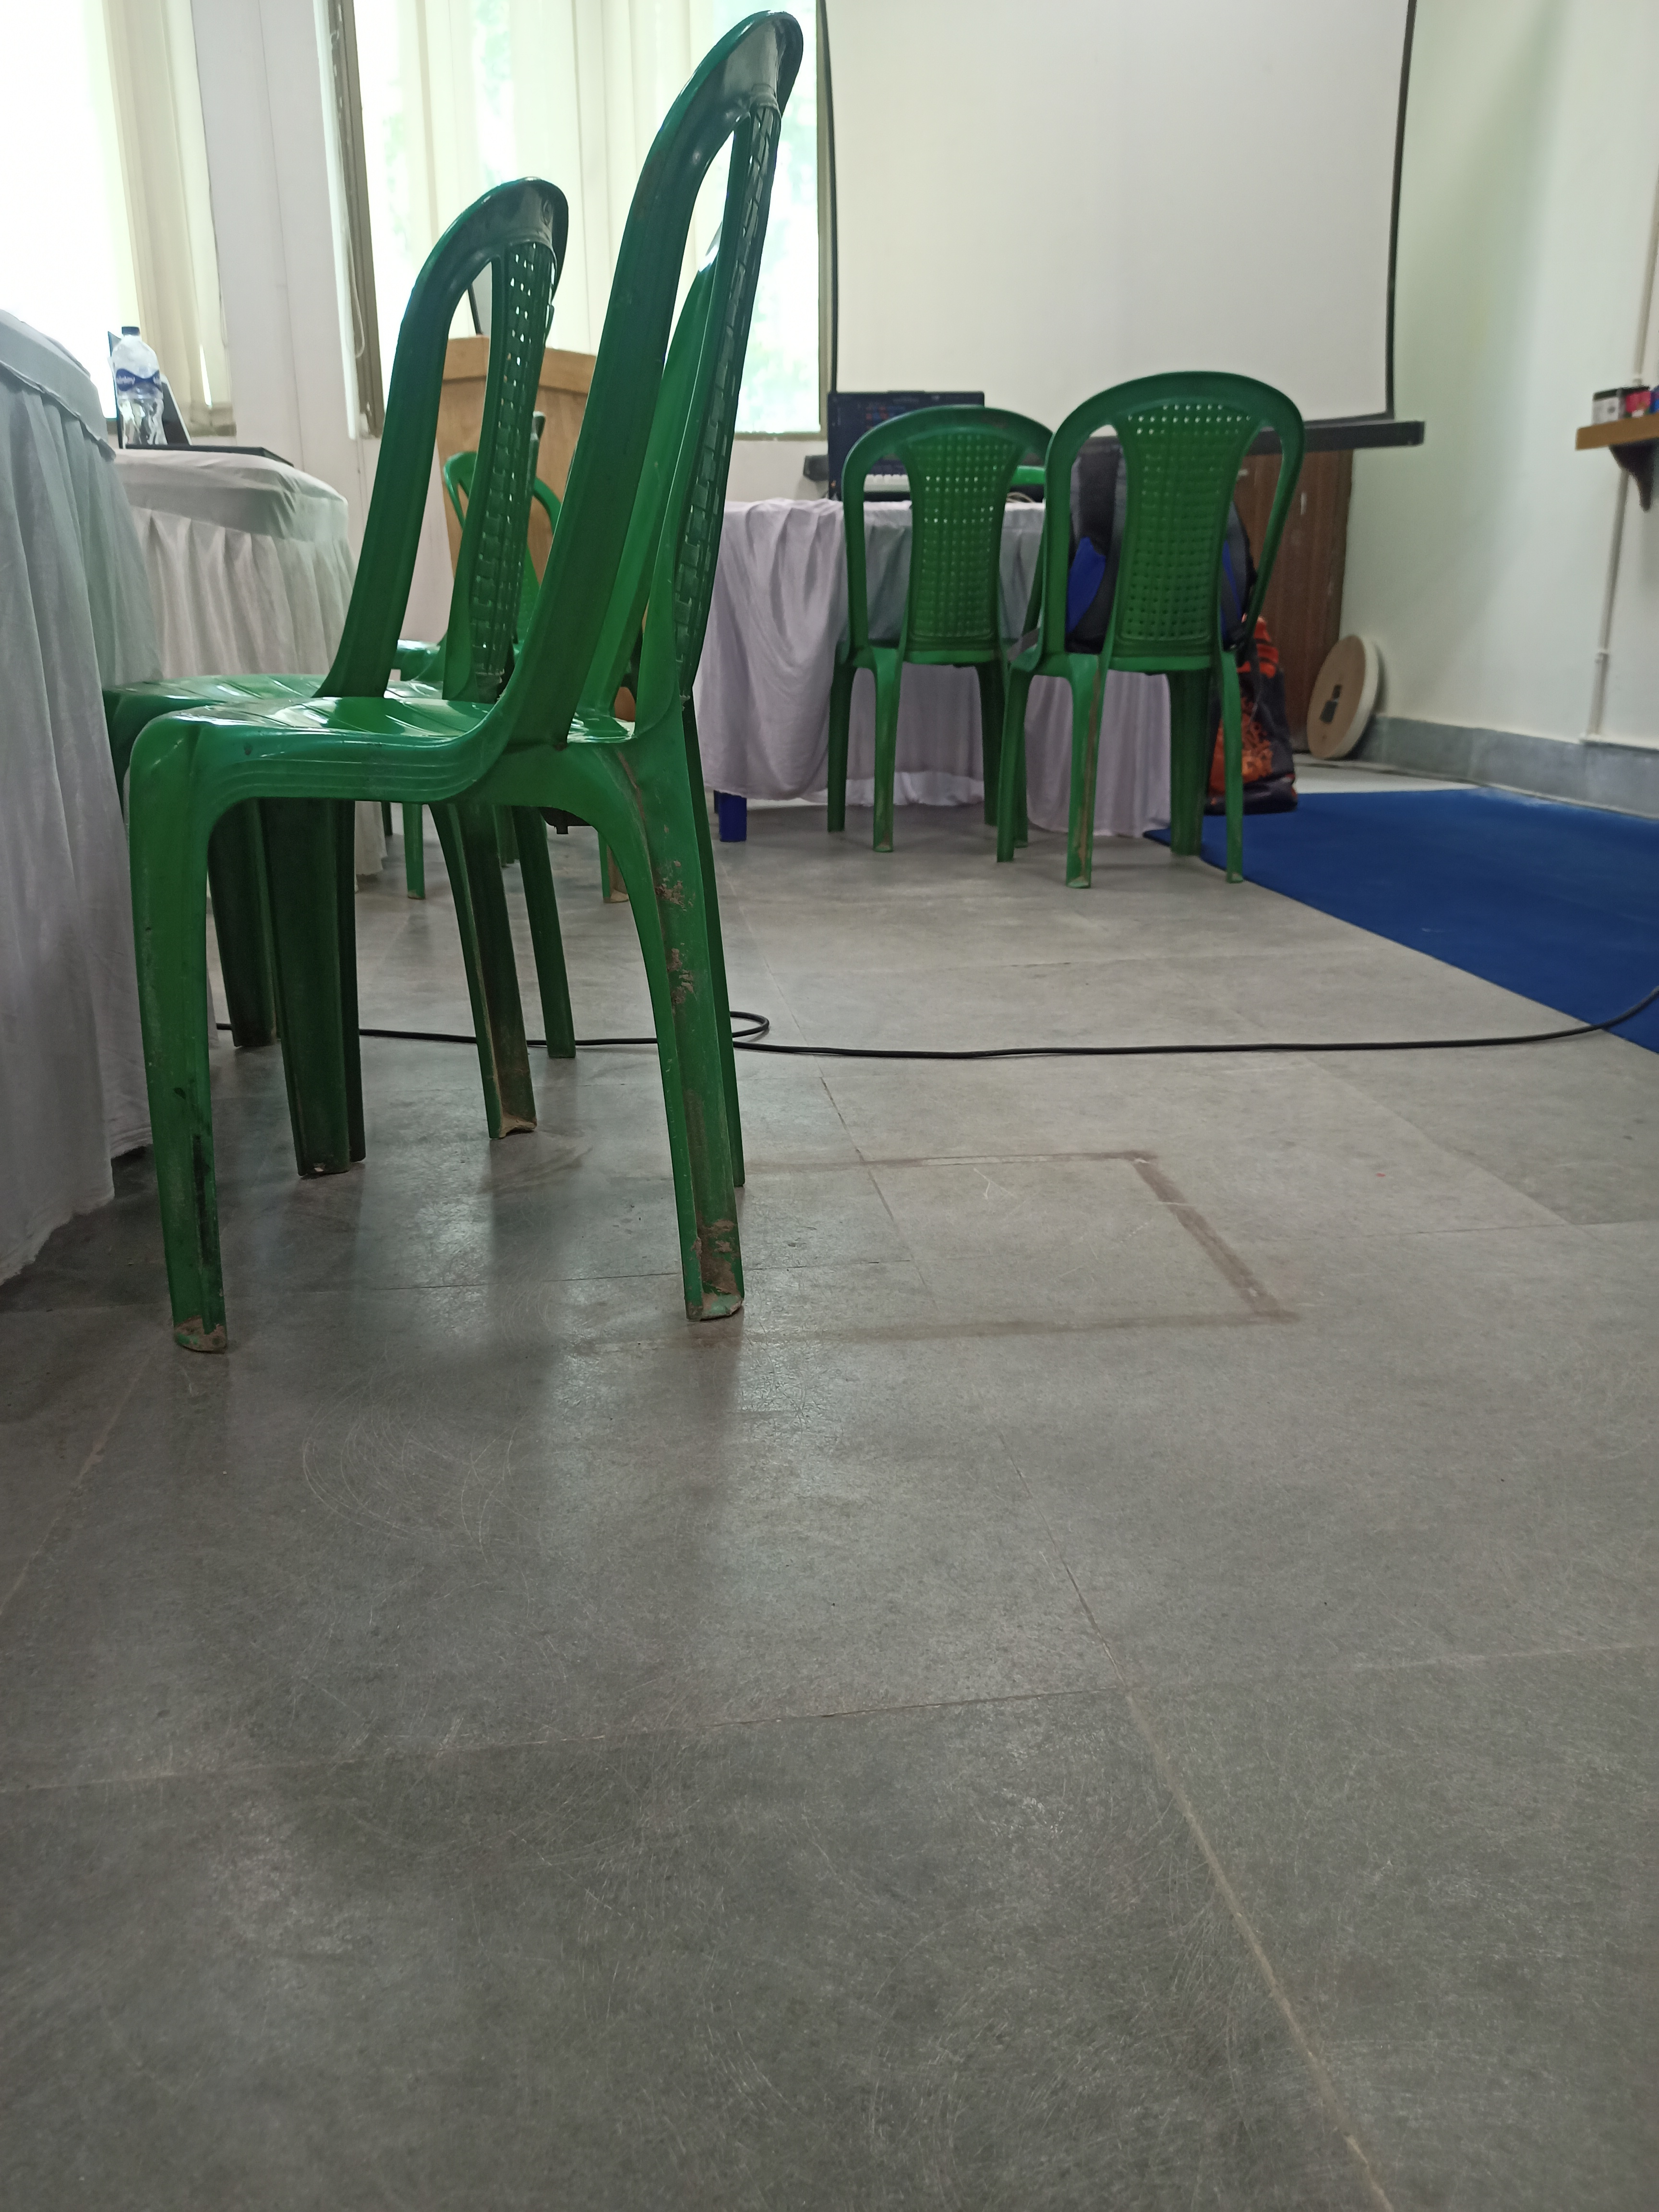Obstacle: (26, 383, 742, 1324), (713, 495, 1272, 831)
Path: (795, 850, 1659, 2184)
